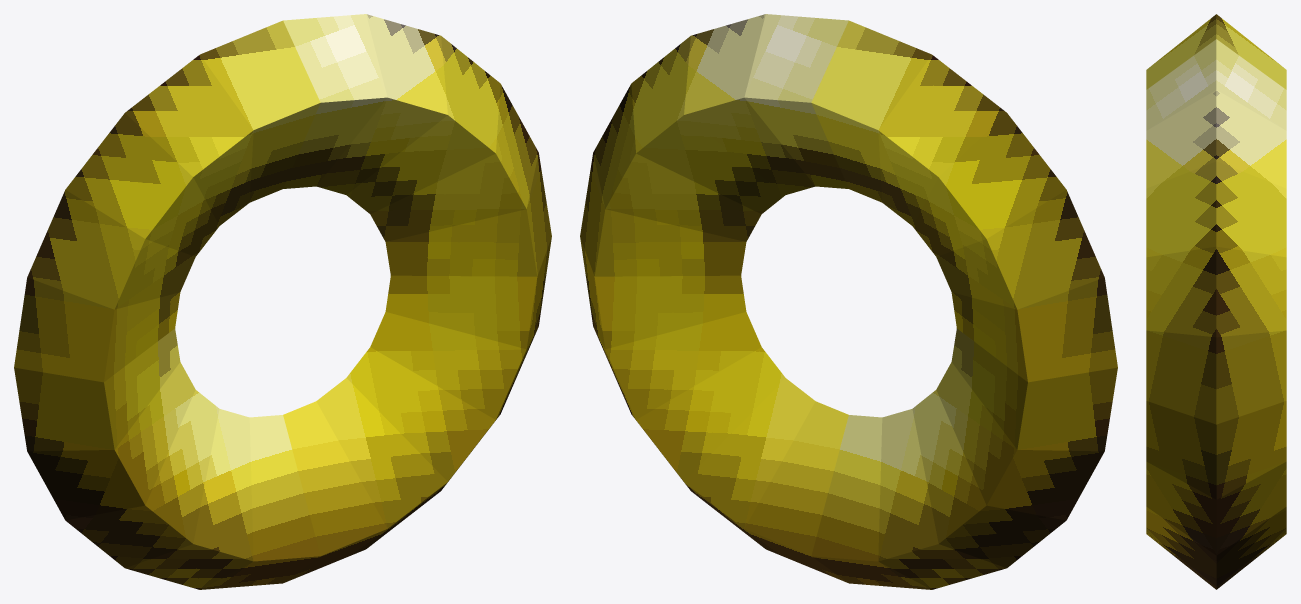
File: Ring.obj
The picture shows the model from 3 angles, left to right: view 1: azimuth 30°, elevation 25°; view 2: azimuth 150°, elevation 25°; view 3: azimuth 270°, elevation 25°; orthographic projection. The views are drawn at different scales.
Parts seen in each view (by area): view 1: noname_1; view 2: noname_1; view 3: noname_1.
Part boxes in pixels (left/top/right/bottom): noname_1: left=14, top=14, right=551, bottom=589; noname_1: left=580, top=14, right=1117, bottom=589; noname_1: left=1146, top=14, right=1286, bottom=589.
Bounding box in the file's own units: 8.62 × 8.62 × 2.09.
